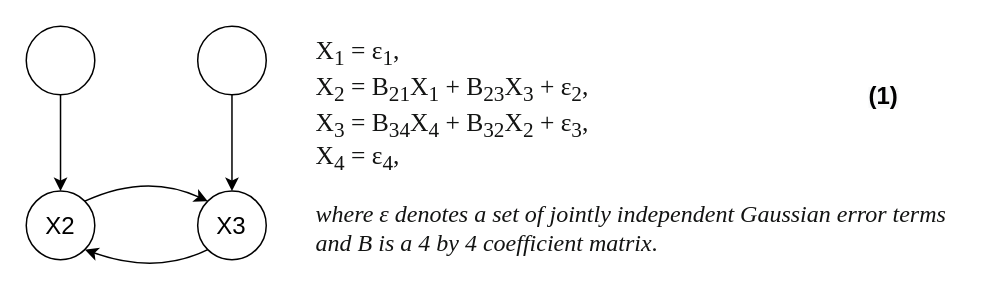
The diagram is 998 pixels wide and 302 high, and some of its shapes have lost their labels. The shapes that lost their labels are listed below. From the top down, each one's centre as x and y in pixels, then its label:
(x=60, y=60): X 1
(x=231, y=60): X4
